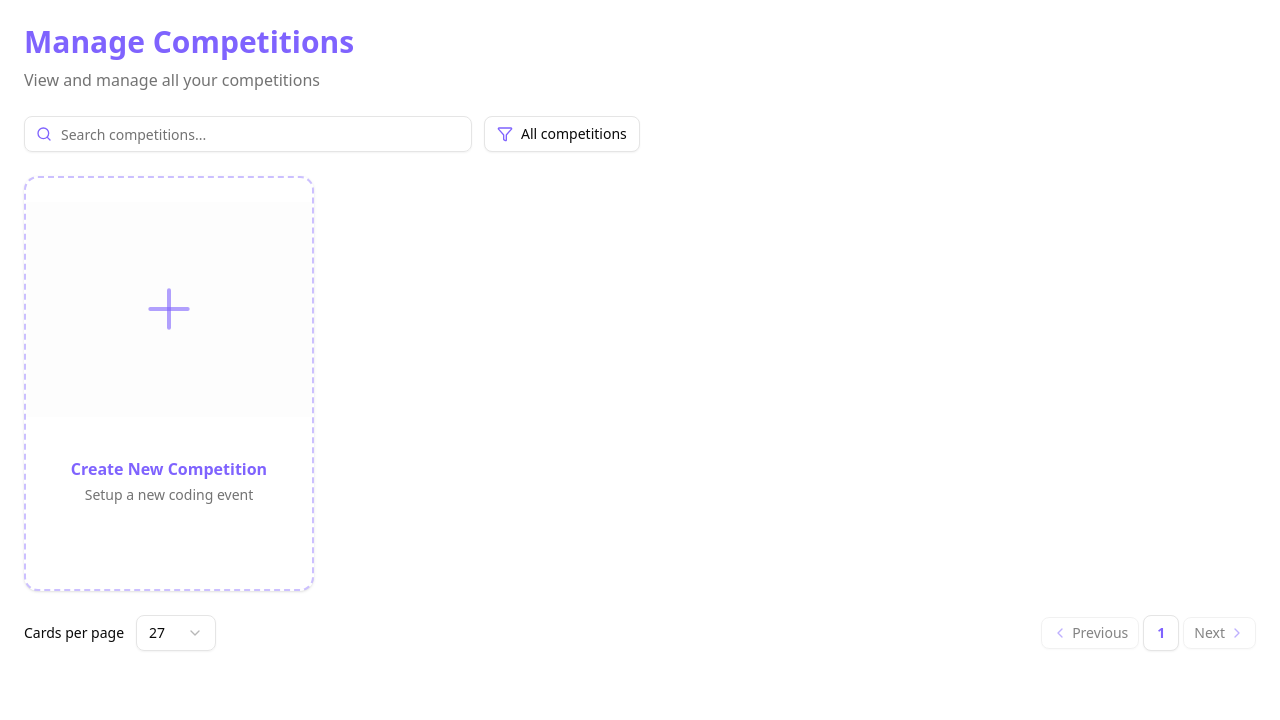
it: ManageCompetitions › filters competitions by search through the paged API
Type "Science" into the field with placeholder "Search competitions...".
click(248, 134); type("Science")  # box [24,116,472,152]
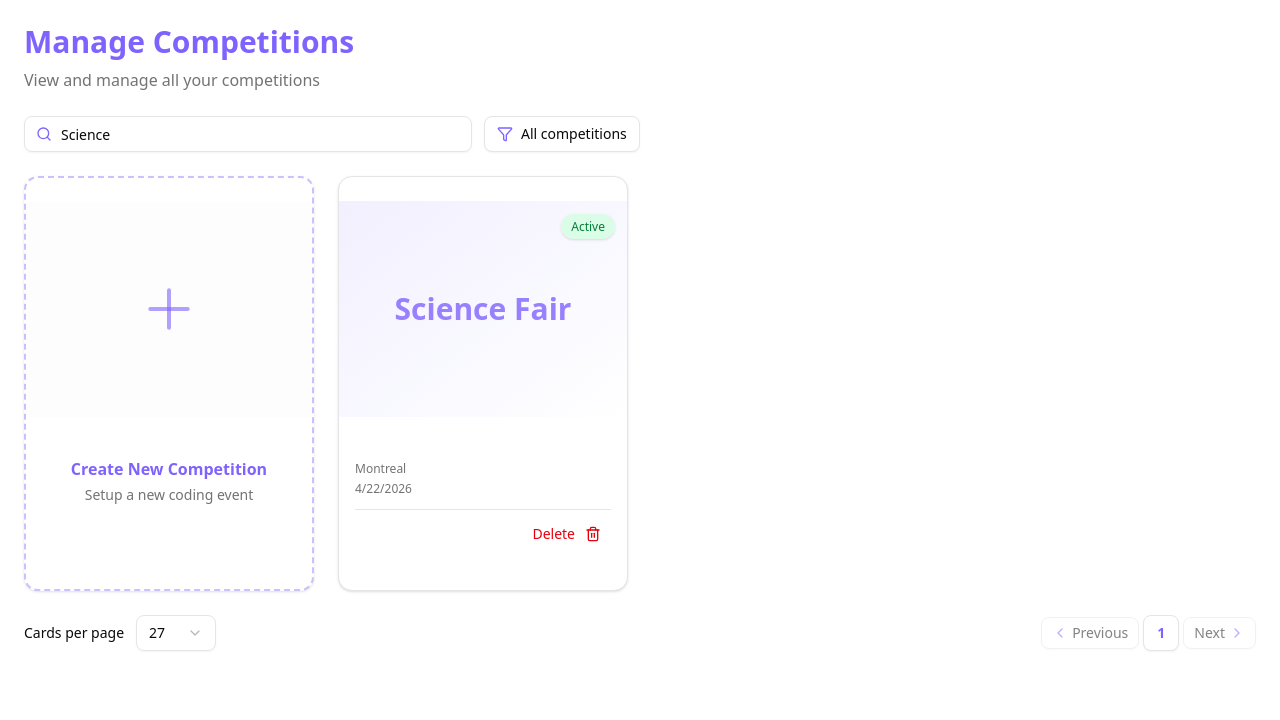
Now the text "Science Fair" is shown, box [395,288,572,329]
